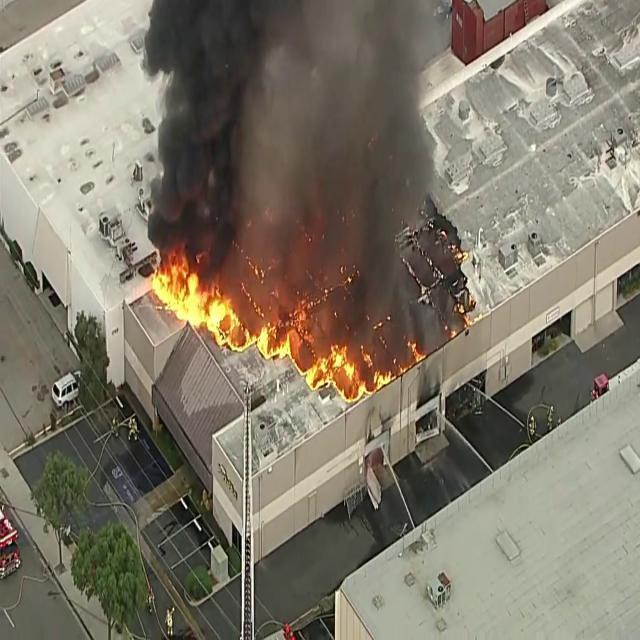Fire: (240, 322, 349, 390), (157, 258, 227, 337)
Smoke: (149, 5, 242, 228)
